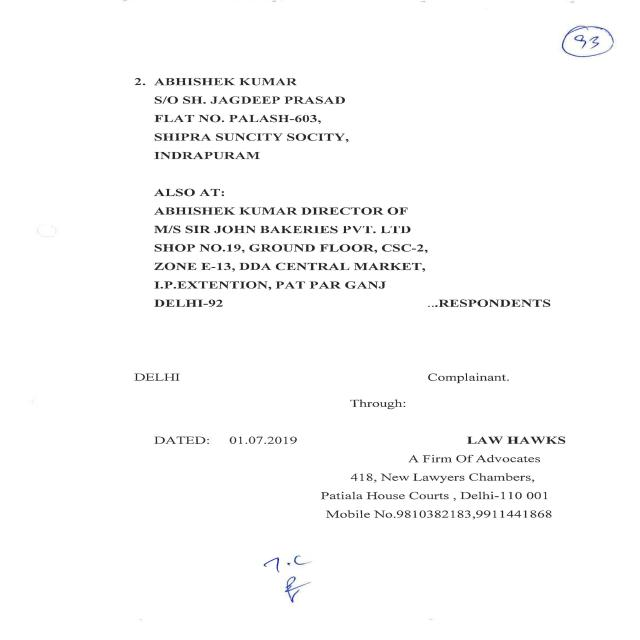page-number: (379, 7, 630, 199)
